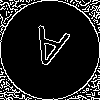A: (25, 25, 71, 78)
